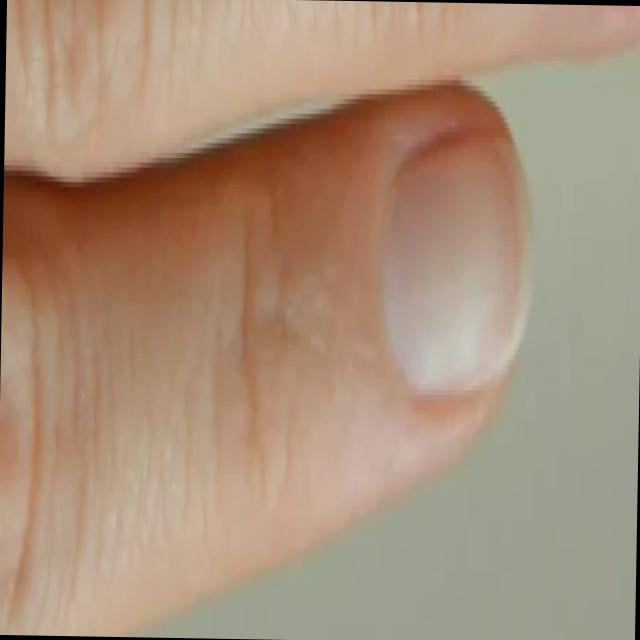Nail: (380, 129, 530, 391)
